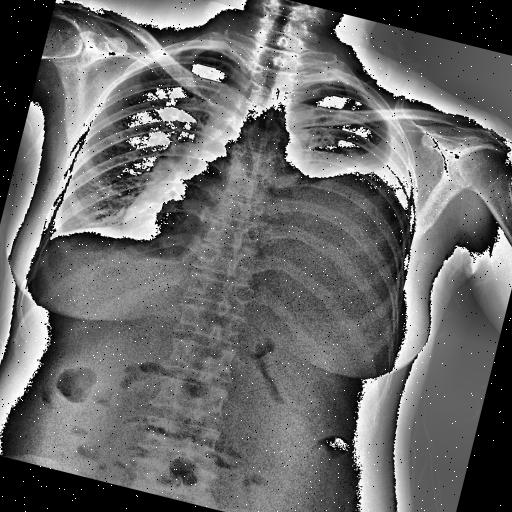10- Pleural effusion: (242, 100, 430, 338), (258, 104, 438, 320), (244, 98, 434, 298)
